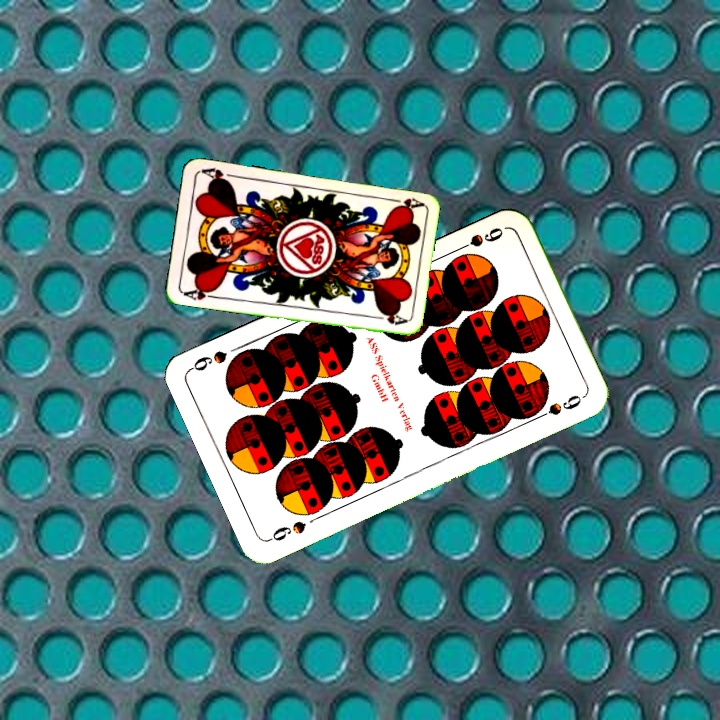HA: (179, 282, 220, 303), (384, 193, 424, 212)
S9: (451, 223, 506, 255), (264, 516, 309, 544)
